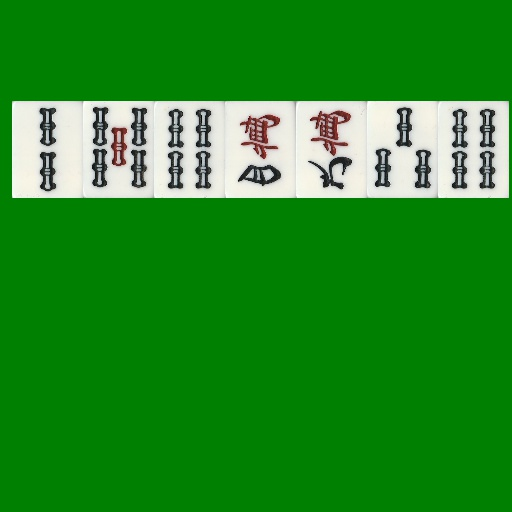2s: (12, 101, 83, 198)
3s: (367, 101, 438, 198)
4m: (225, 101, 296, 198)
4s: (154, 101, 225, 198), (438, 101, 509, 198)
5s: (83, 101, 154, 198)
9m: (296, 101, 367, 198)
